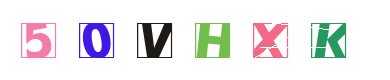0: (115, 0, 195, 80)
5: (56, 0, 136, 80)
H: (156, 0, 236, 80)
K: (285, 0, 365, 80)
V: (118, 0, 198, 80)
X: (179, 0, 259, 80)
